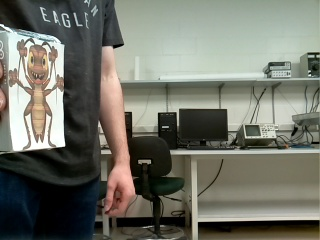Angry: (9, 38, 64, 151)
